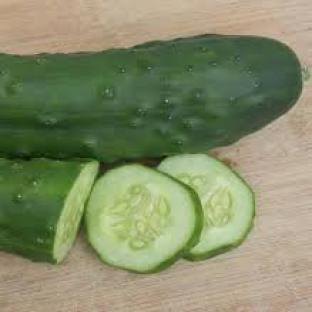Cucumber: (0, 36, 302, 162), (86, 165, 203, 272), (159, 154, 255, 260), (0, 160, 98, 263)
